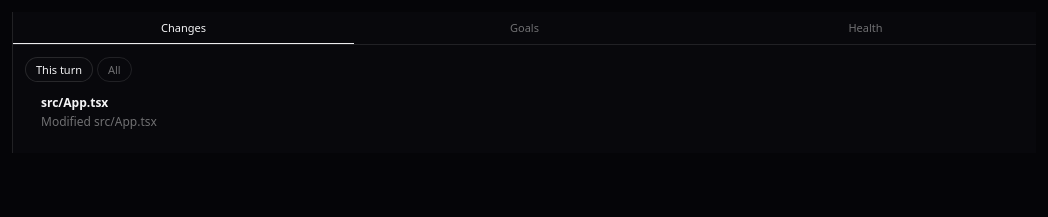
InspectorDrawer › hides non-chat edits until All is chosen
The image size is (1048, 217).
Expected: the text "src/App.tsx" is shown, [41,94,108,111]
Expected: the text "notes.md" is not shown
Click the radio button labelled "All" at (114, 70), box [97,57,132,82]
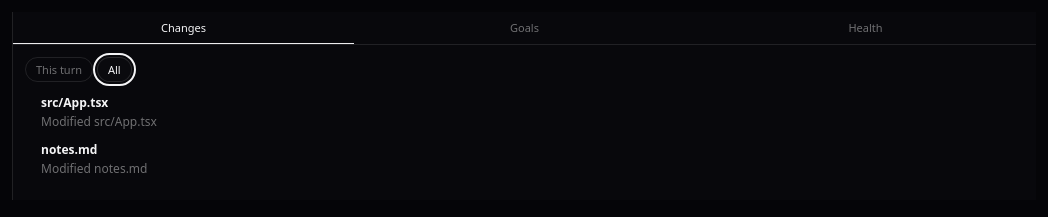
Expected: the text "notes.md" is shown, [41,141,97,158]
